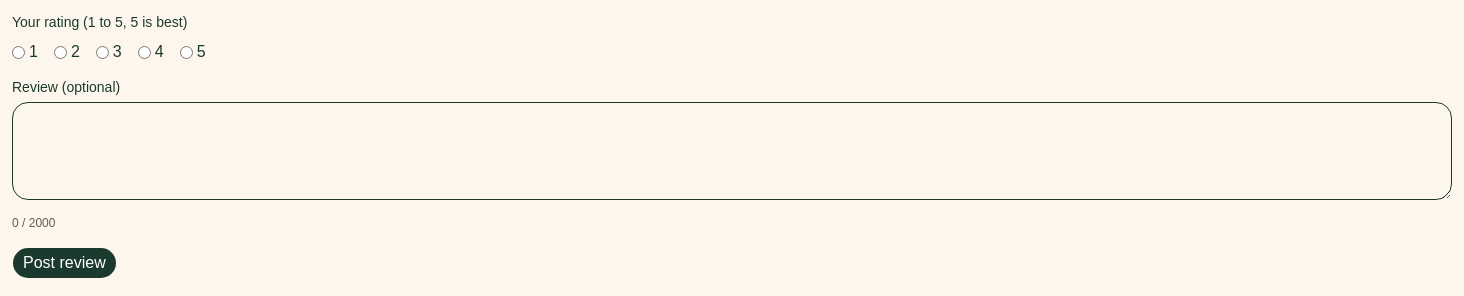
Test case: ReviewForm › posts the catalog id, rating and trimmed text, then resets the form
Click the radio button labelled "5" at {"x": 186, "y": 52}, box [180,46,193,58]
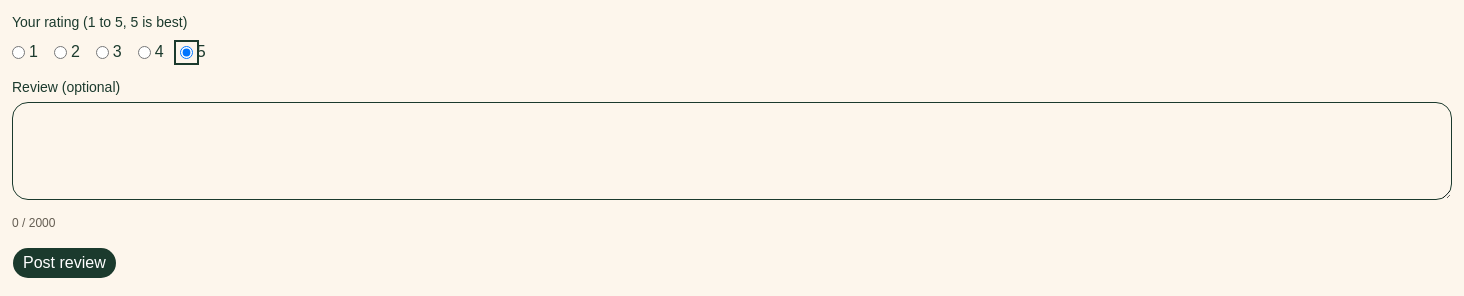
Type "  Loved it  " into the text box labelled "Review (optional)" at {"x": 732, "y": 151}, box [12,102,1452,200]
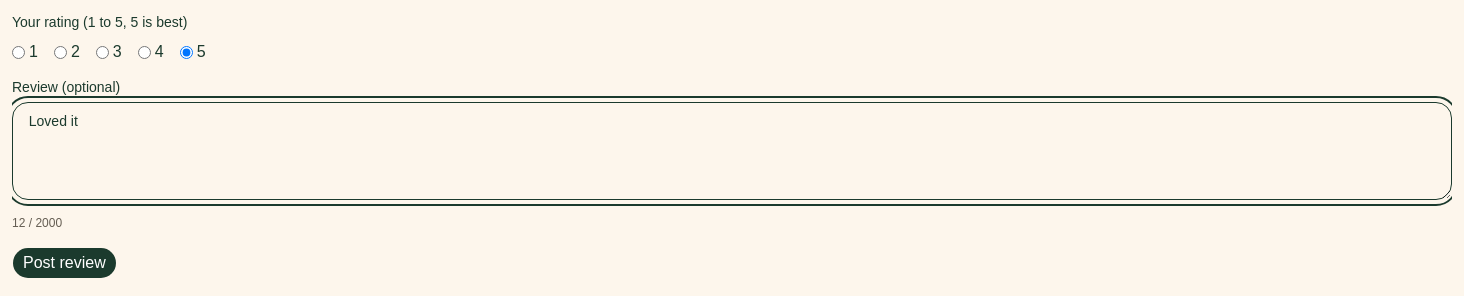
Click the button "Post review" at {"x": 64, "y": 263}, box [12,247,117,279]
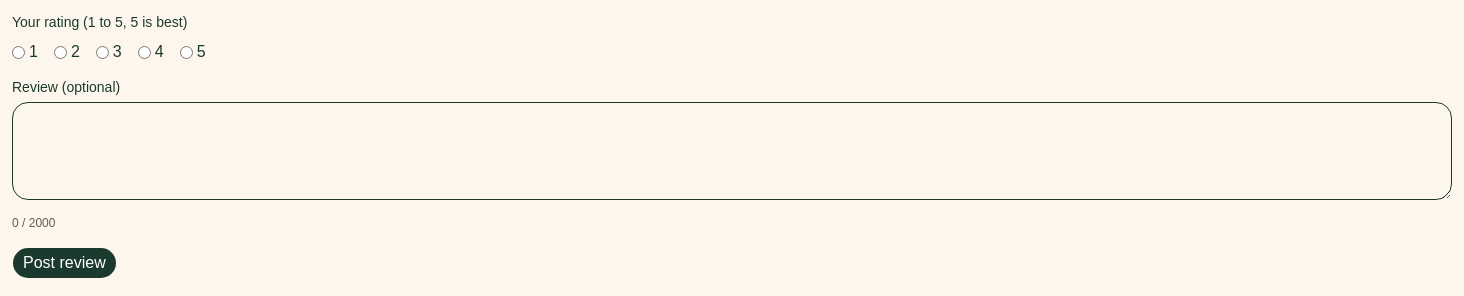
Check: the radio button labelled "5" is not checked, box [180,46,193,58]
Check: the text box labelled "Review (optional)" is empty, box [12,102,1452,200]
